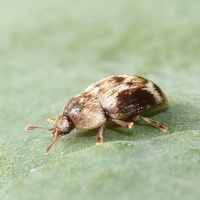insect: (25, 74, 168, 152)
